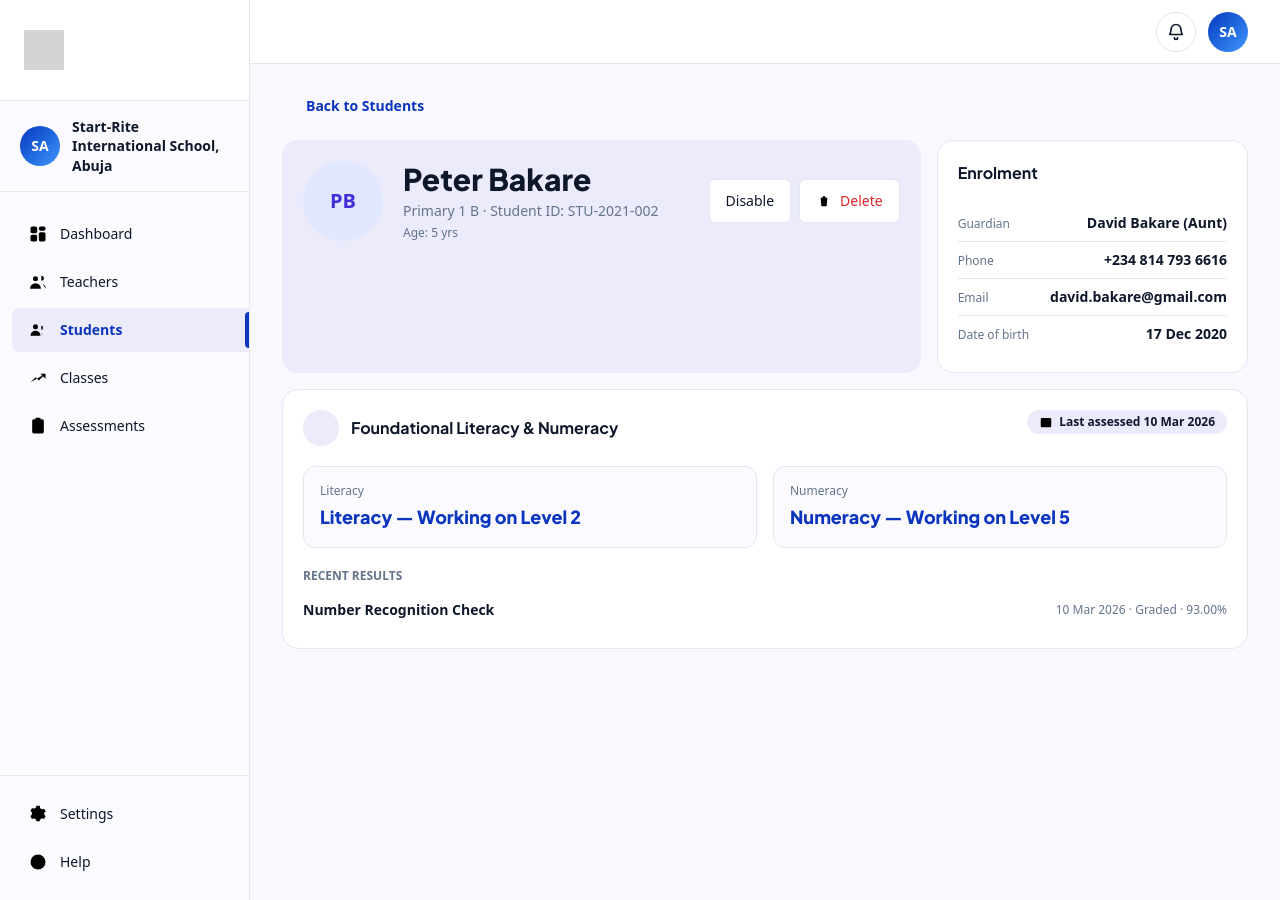
Test: StudentDetailPage › toggles a student between active and disabled
What coordinates should you click on to do the following:
click the button "Disable"
I would click on:
 (750, 201)
Its box is [709,179,791,223].
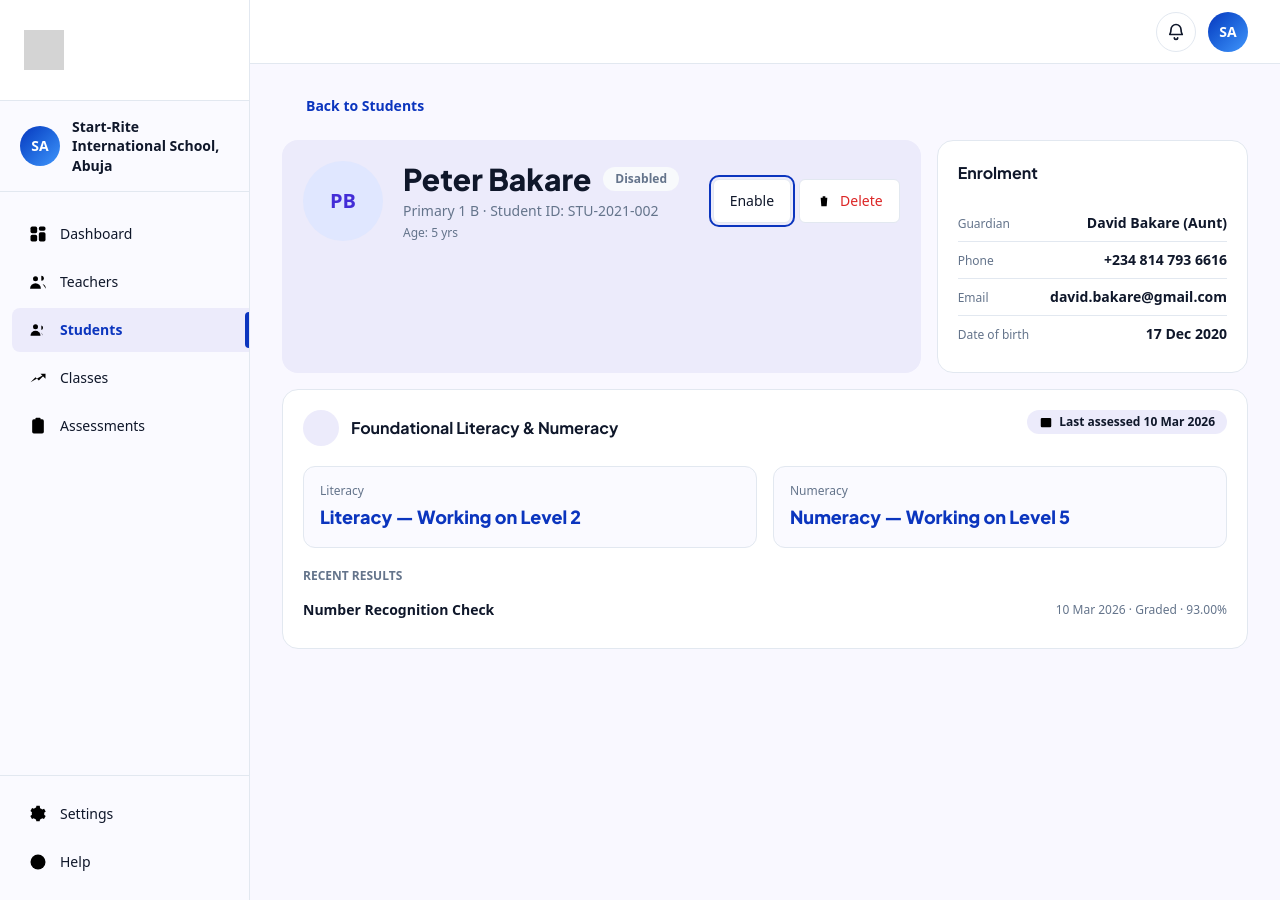
Now the text "Disabled" is shown, box [603,167,679,191]
Now the button "Enable" is shown, box [713,179,791,223]
